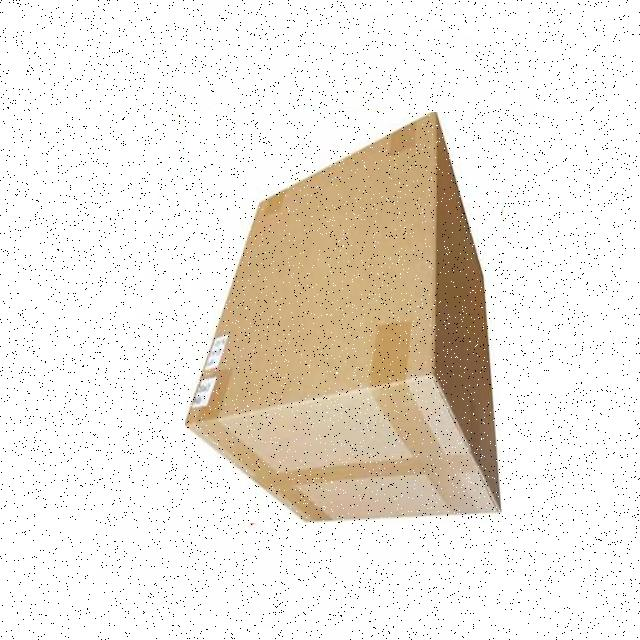normal: (185, 112, 502, 523)
